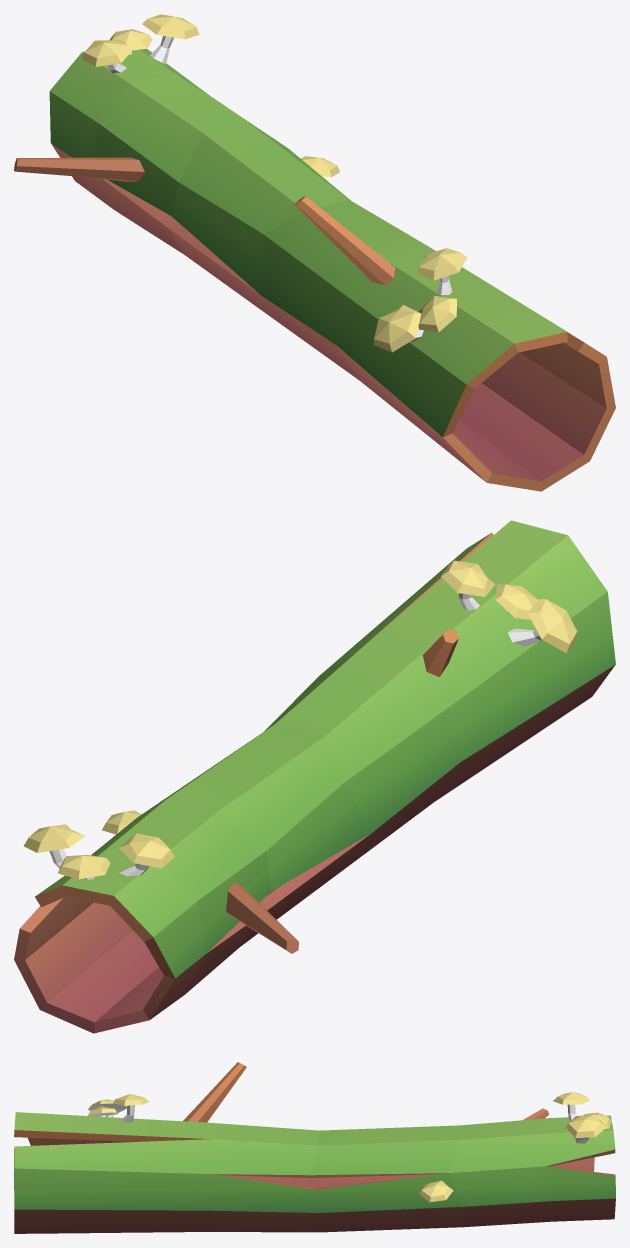
Rendered from WoodLog_Moss.fbx.
3 renders of one model, top to bottom at view 1: azimuth 30°, elevation 25°; view 2: azimuth 150°, elevation 25°; view 3: azimuth 270°, elevation 25°, orthographic. The views are drawn at different scales.
Parts seen in each view (by area): view 1: WoodLog_Moss; view 2: WoodLog_Moss; view 3: WoodLog_Moss.
Boxes of the visible parts, <box> form: WoodLog_Moss: <box>14,14,615,491</box>; WoodLog_Moss: <box>14,520,615,1033</box>; WoodLog_Moss: <box>14,1062,615,1233</box>.
Size of the model in its own units: 0.8966 by 0.6883 by 2.67.
